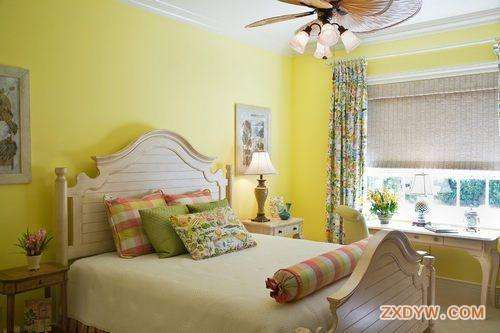床: (69, 239, 431, 331)
枕头: (102, 185, 249, 259)
灯: (285, 12, 362, 61), (239, 140, 279, 221), (412, 170, 434, 199)
